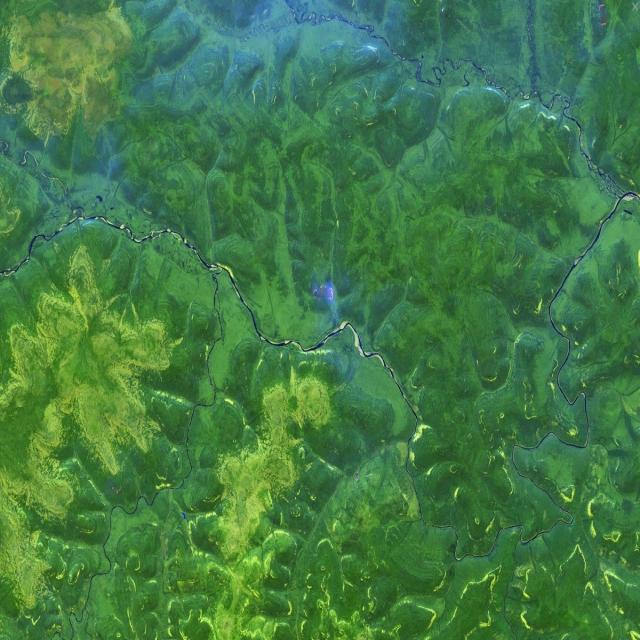fire: (308, 276, 341, 308)
